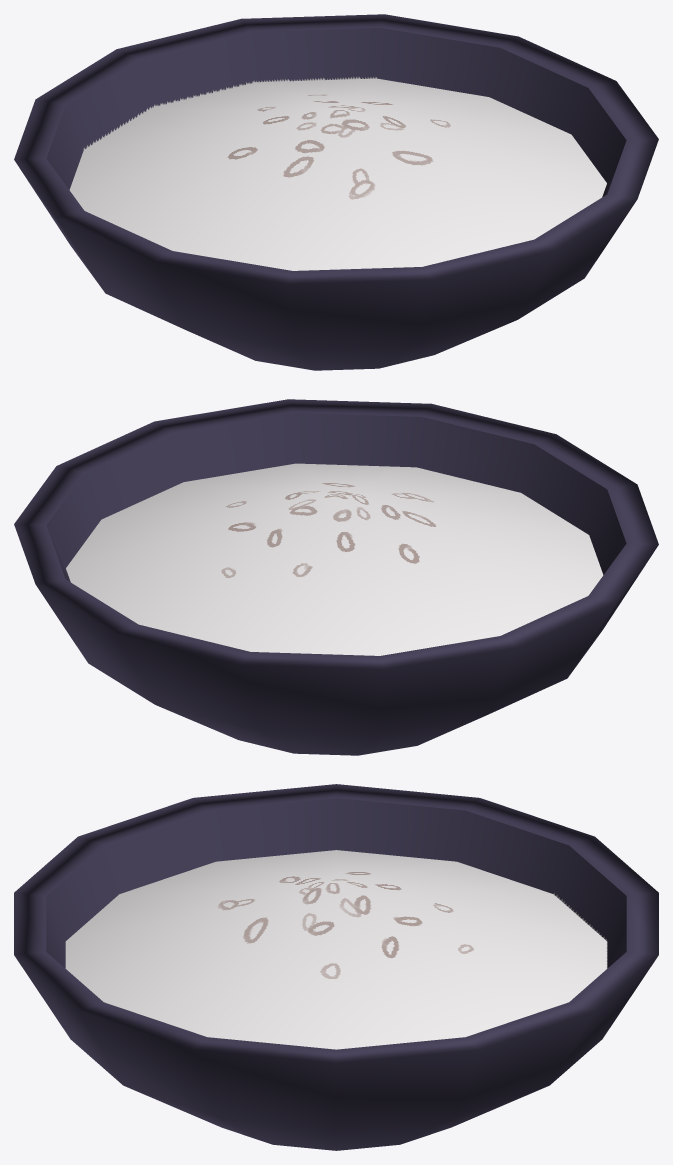
The model's file is rice.fbx.
3 views of the same model, one above another, from view 1: azimuth 30°, elevation 25°; view 2: azimuth 150°, elevation 25°; view 3: azimuth 270°, elevation 25° (orthographic). The views are drawn at different scales.
Parts seen in each view (by area): view 1: rice_bowl; view 2: rice_bowl; view 3: rice_bowl.
Boxes of the visible parts, x1=… form: rice_bowl: x1=14, y1=14, x2=658, y2=370; rice_bowl: x1=14, y1=399, x2=658, y2=755; rice_bowl: x1=14, y1=784, x2=658, y2=1150.
Size of the model in its own units: 49.25 by 16.82 by 48.01.
Materials: 1 (1 with a texture image).
